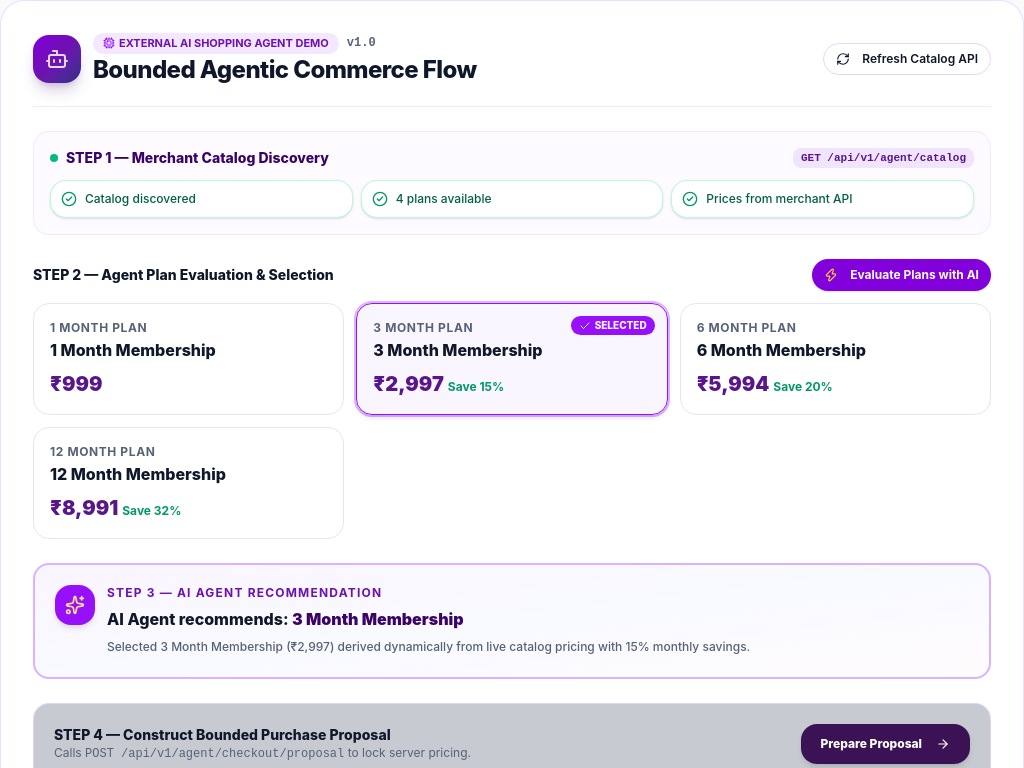
Test: ExternalAIShoppingAgentSimulator — Bounded Agentic Flow › 3. Prepares purchase proposal via API and enforces MANDATORY human approval gate
Expected: the element with test id "catalog-discovery-status" is shown, x1=50 y1=180 x2=974 y2=218
Click 6m plan card
Click the element with test id "dynamic-plan-card-6m": {"x": 835, "y": 359} x1=680 y1=303 x2=991 y2=415
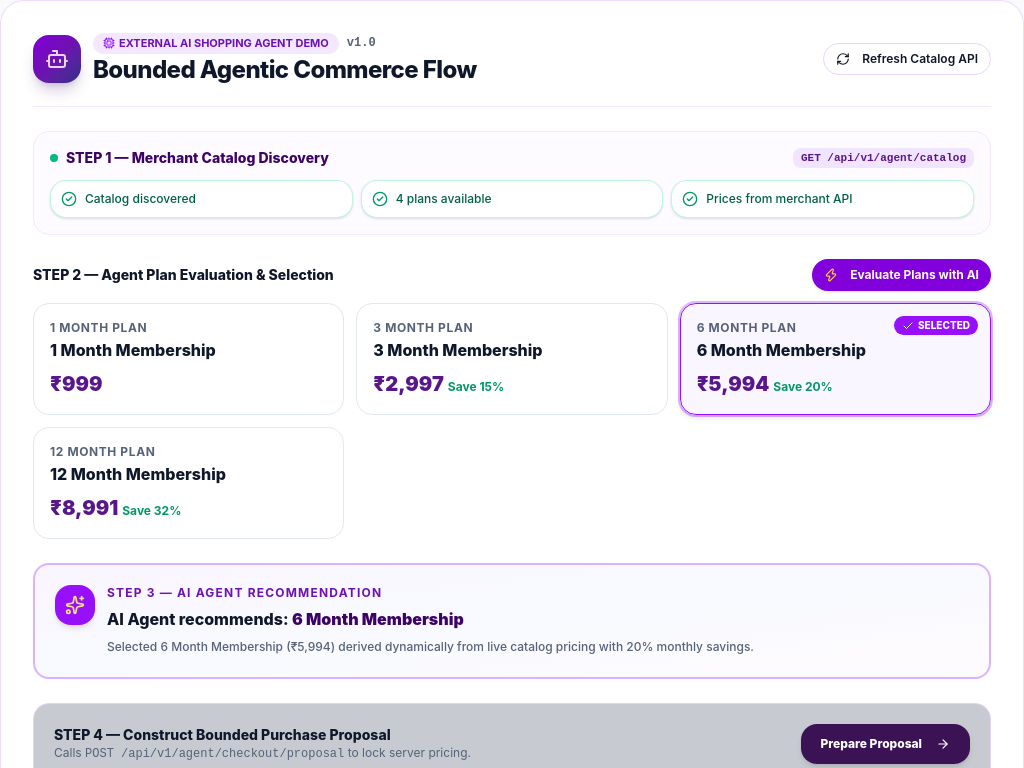
Click Prepare Proposal
Click the button with test id "prepare-proposal-btn": {"x": 885, "y": 744} x1=800 y1=724 x2=970 y2=764
(page scrolled)
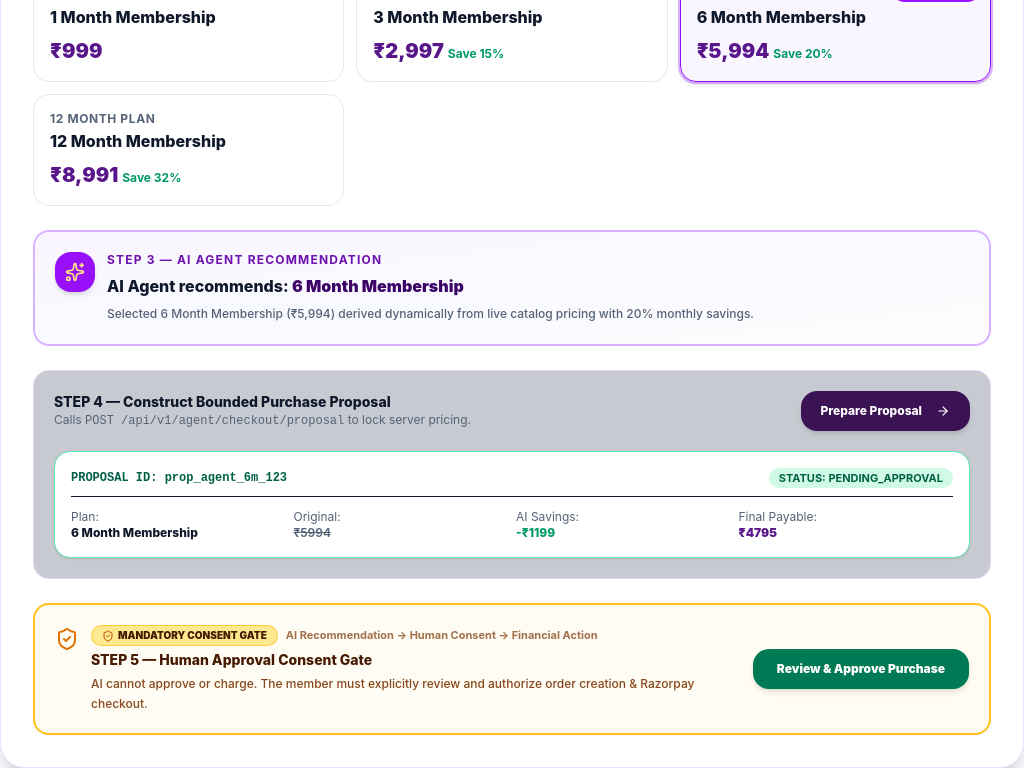
Result: the element with test id "proposal-preview-card" shows "prop_agent_6m_123" at x1=165 y1=471 x2=287 y2=485
Result: the element with test id "proposal-preview-card" shows "PENDING_APPROVAL" at x1=828 y1=470 x2=943 y2=484
Human Safety Gate — Open Approval Modal
Click the button with test id "open-approval-modal-btn": {"x": 861, "y": 669} x1=753 y1=649 x2=969 y2=689
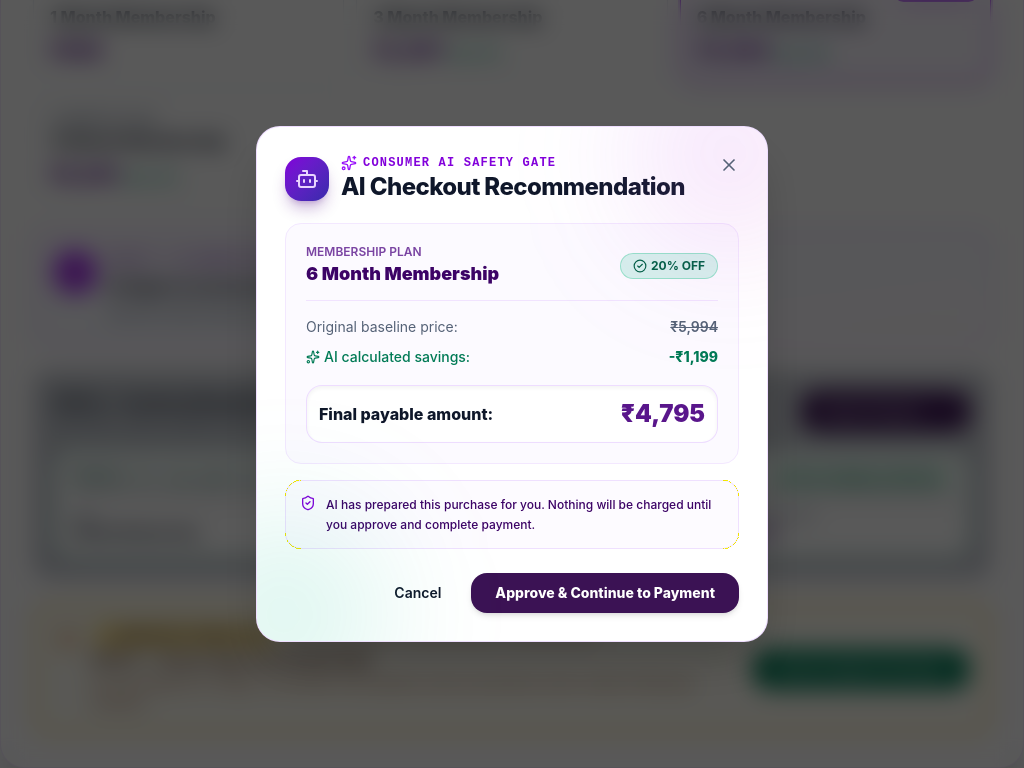
Result: the dialog with test id "ai-approval-modal" is shown
Result: the heading with test id "ai-approval-title" reads "AI Checkout Recommendation" at x1=341 y1=172 x2=685 y2=201
Result: the text with test id "ai-proposal-final-price" reads "₹4,795" at x1=621 y1=398 x2=705 y2=430
